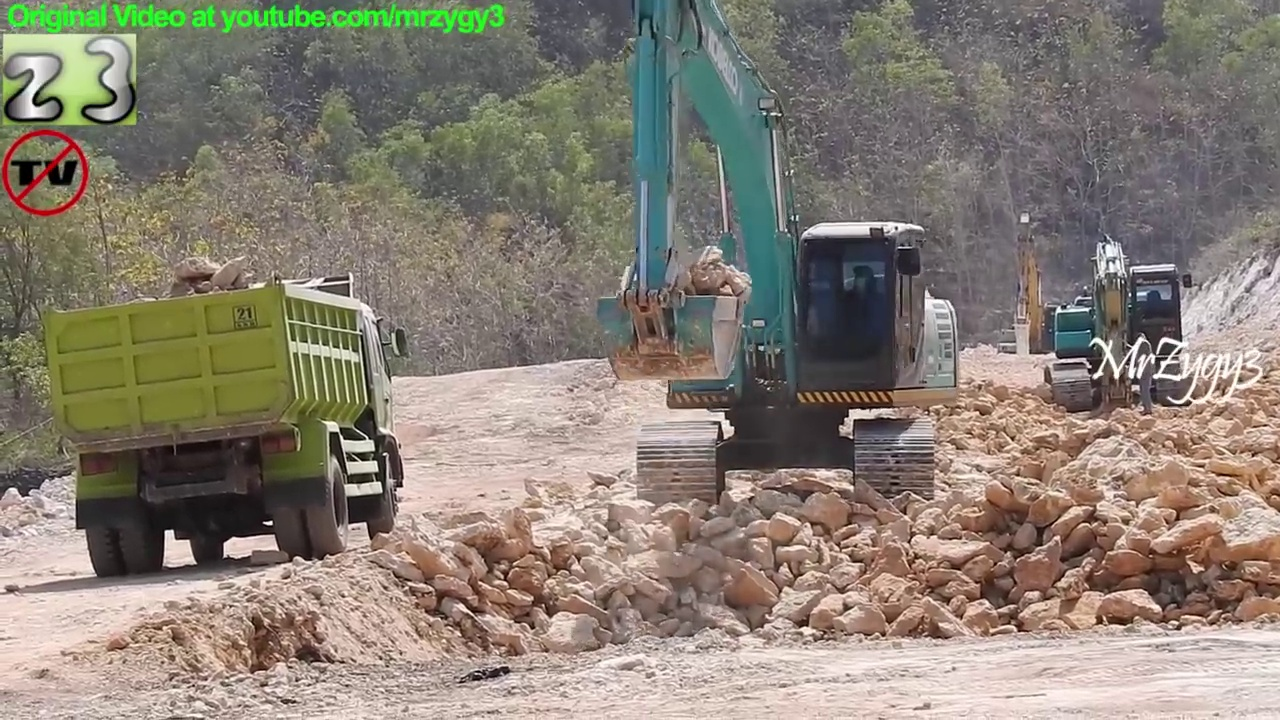excavator: (588, 1, 968, 519), (989, 206, 1084, 371)
excavator breaker: (1034, 221, 1198, 424)
truck: (38, 268, 415, 583)
worker: (1116, 326, 1162, 419)
